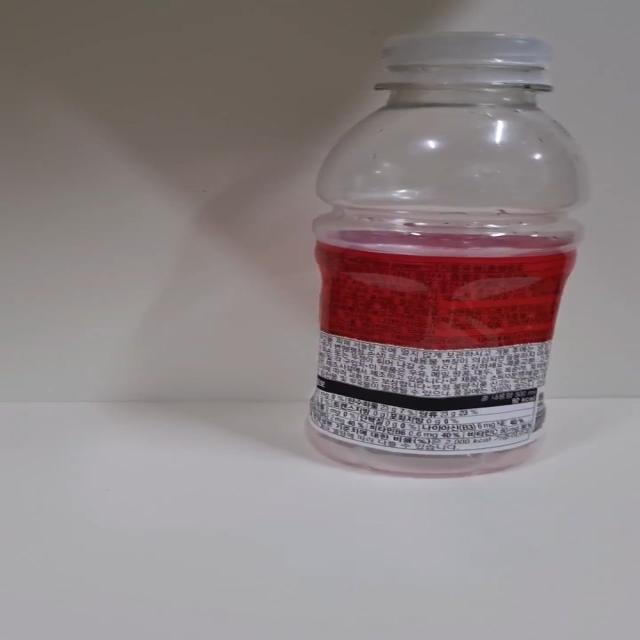Plastic: (304, 31, 593, 479)
